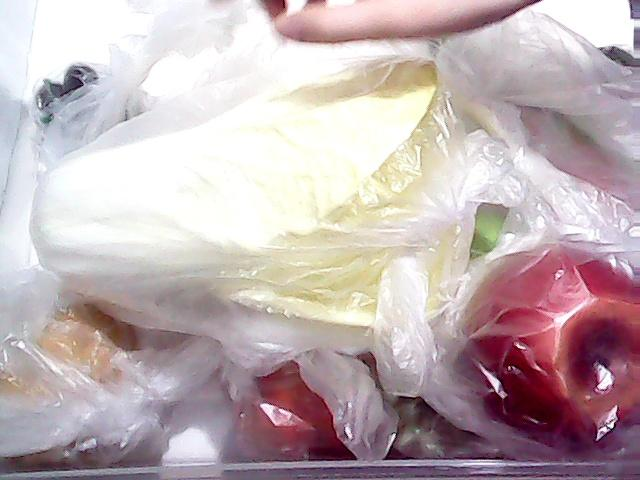apple: (451, 229, 640, 448)
carrot: (510, 72, 640, 224)
grape: (20, 54, 126, 138), (390, 392, 448, 460)
napa cabbage: (27, 70, 493, 354)
peach: (234, 314, 388, 463)
potato: (0, 301, 142, 471)
